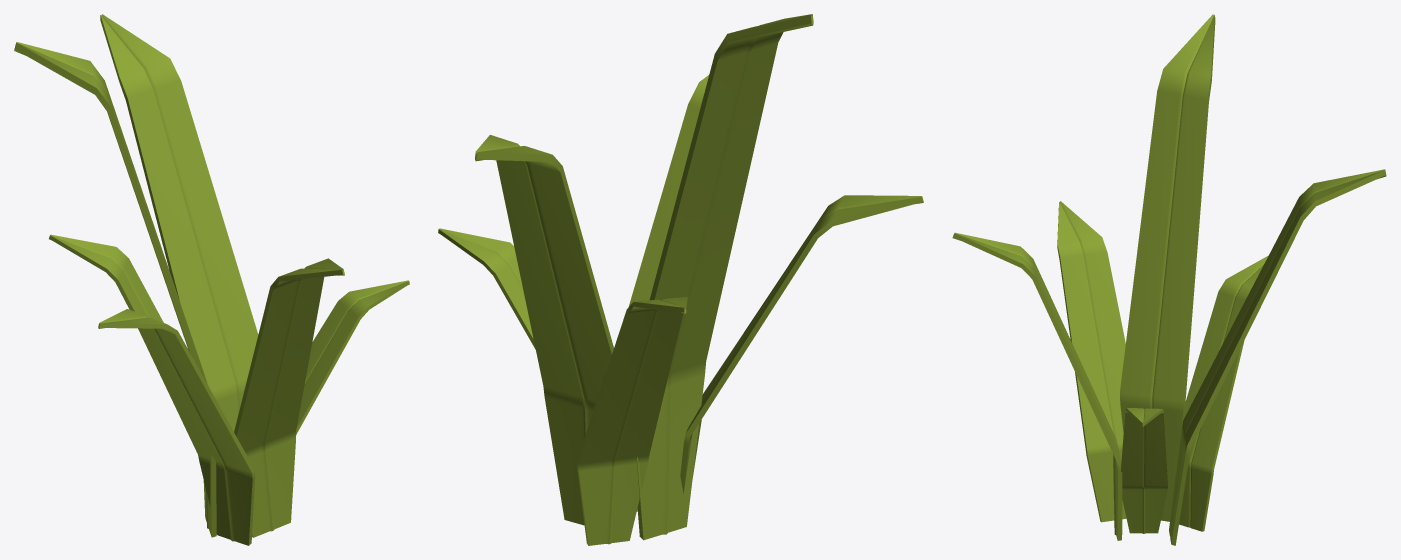
Rendered from feuillesGazon.fbx.
3 renders of one model, left to right at view 1: azimuth 30°, elevation 25°; view 2: azimuth 150°, elevation 25°; view 3: azimuth 270°, elevation 25°, orthographic. The views are drawn at different scales.
Visible parts, largest first — view 1: gazon; view 2: gazon; view 3: gazon.
Part boxes in pixels (bbox=[...]): gazon: bbox=[14, 14, 409, 545]; gazon: bbox=[438, 14, 923, 545]; gazon: bbox=[952, 14, 1386, 545].
Bounding box in the file's own units: 9.73 × 12.93 × 11.63.
